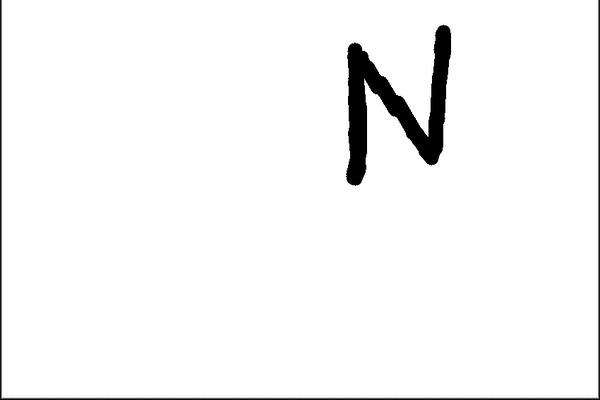N: (337, 19, 454, 189)
